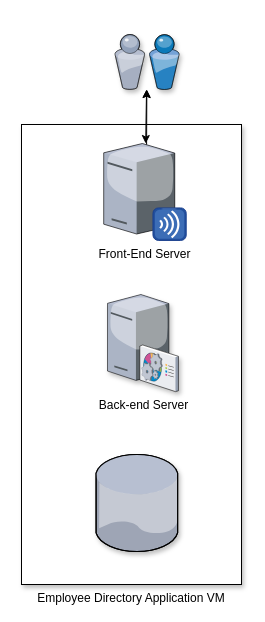
Some shapes in this 265 by 622 pixel diagram are drawn without their labels. Here are the shapes that lost their labels. From the top down, the centre of each, then its label:
At point (147, 63): "Andrew".
At point (138, 504): "Database".
